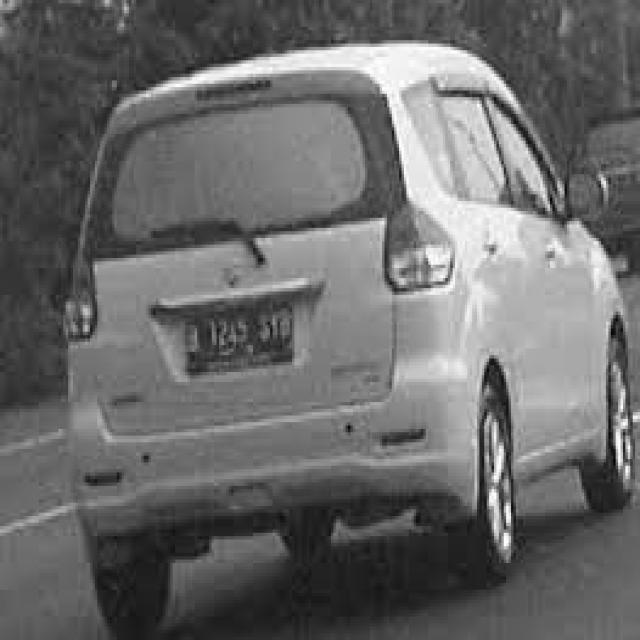license-plat: (153, 298, 350, 410)
